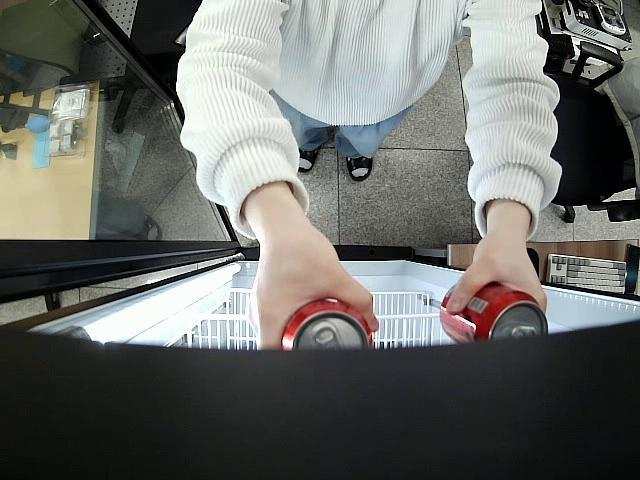11_cocaColaZero: (439, 280, 548, 343), (280, 300, 375, 353)
